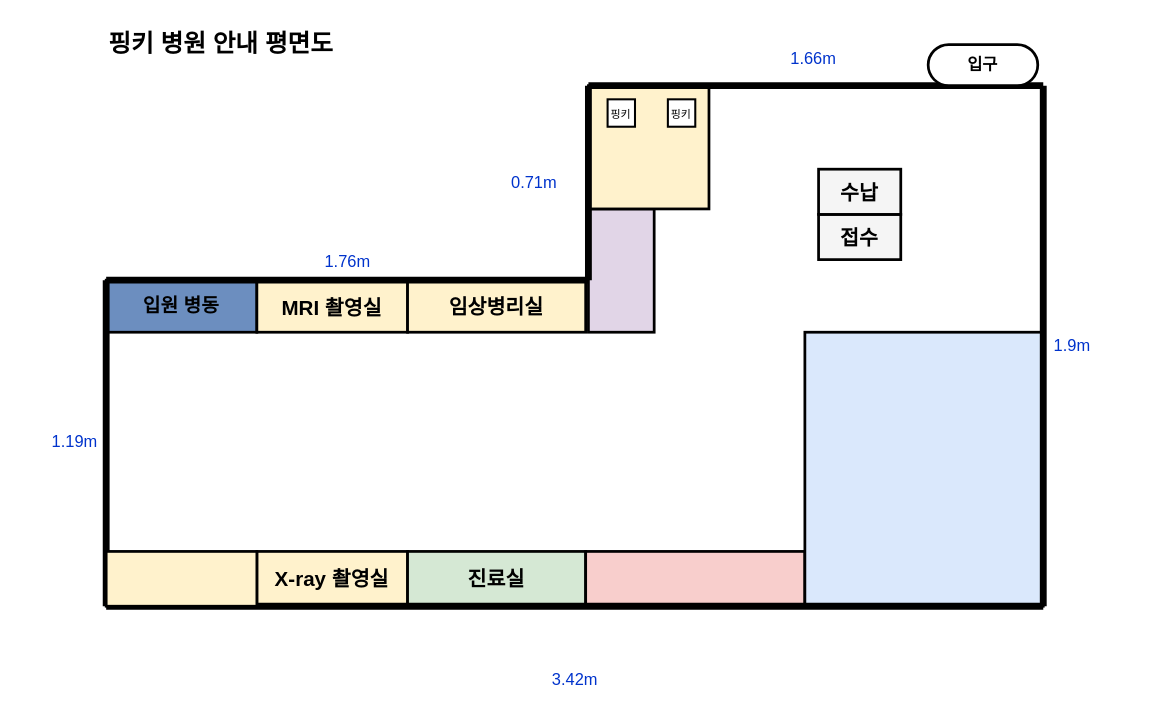
The diagram is 1149 pixels wide and 712 high, and some of its shapes have lost their labels. Each missing label, with the box of its shape:
CT 촬영실: (104, 549, 258, 607)
물리치료실: (584, 549, 806, 607)
약국 2: (803, 330, 1044, 607)
핑키 충전소: (586, 84, 710, 210)
화장실: (586, 207, 655, 333)
